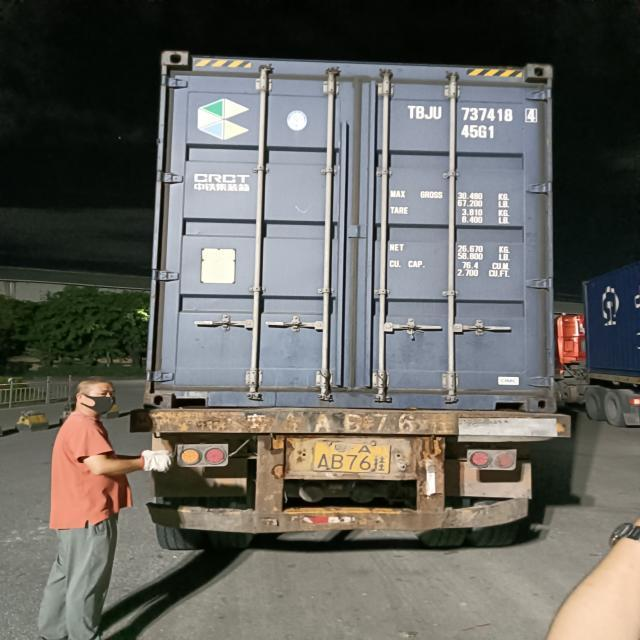ISO: (462, 126, 496, 140)
container_number: (406, 104, 538, 125)
